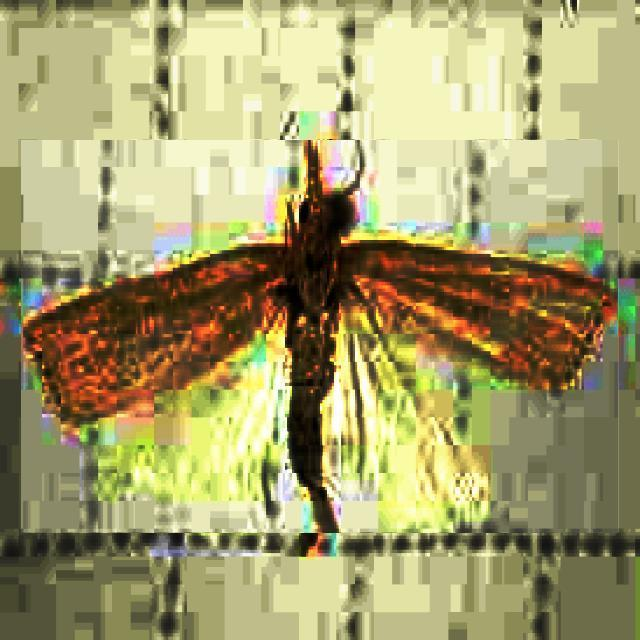stem-borer: (22, 140, 620, 533)
